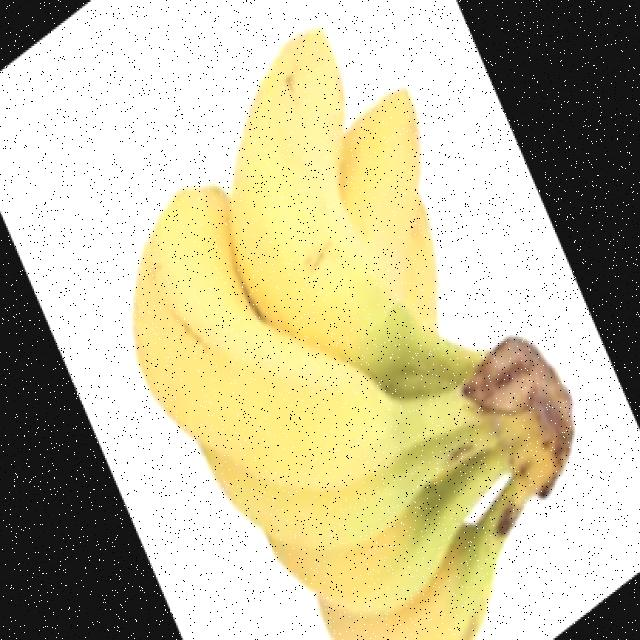god quality banana: (133, 29, 574, 637)
